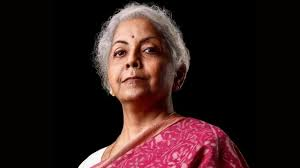person: (96, 5, 189, 106)
